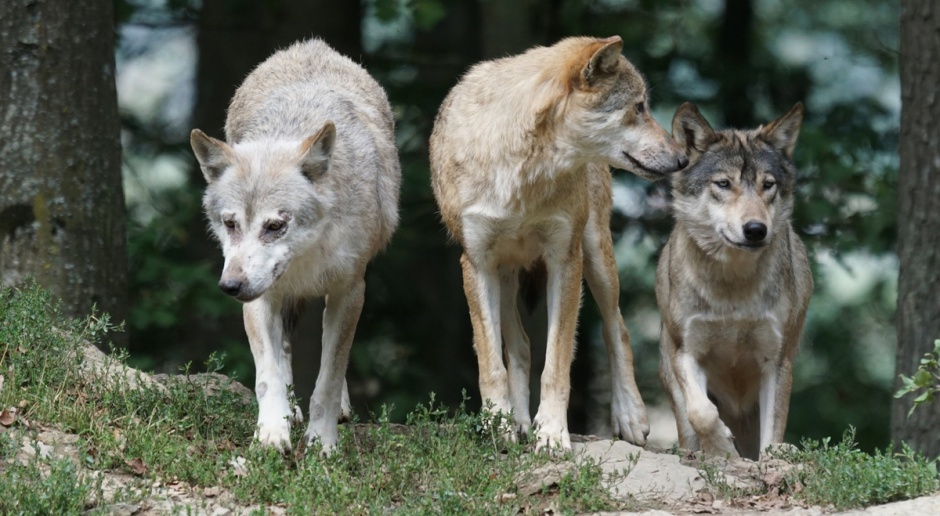wolf: (168, 1, 420, 458), (437, 23, 661, 450), (668, 77, 802, 475)
